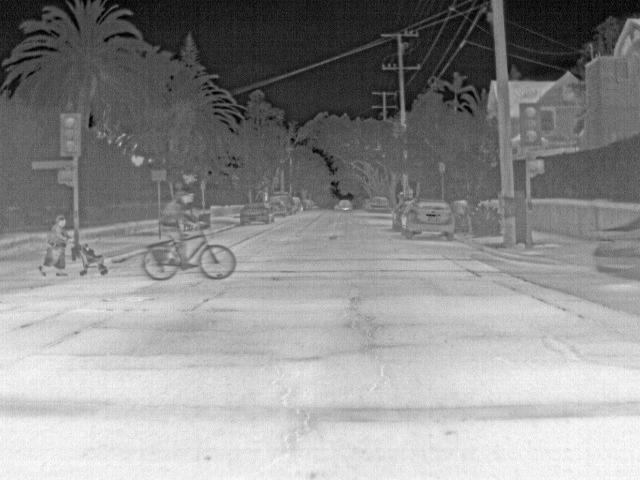car: (592, 215, 640, 279), (419, 197, 454, 241), (241, 201, 275, 226), (272, 191, 293, 216), (365, 195, 391, 214), (291, 196, 304, 213), (339, 198, 354, 212), (304, 197, 316, 210)
person: (160, 188, 198, 271), (38, 214, 69, 276), (403, 190, 419, 238), (392, 191, 406, 232), (83, 243, 96, 260)
